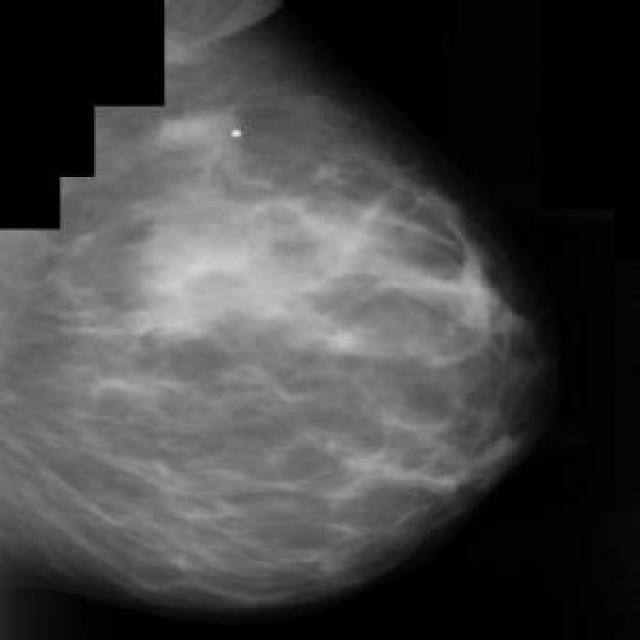tumor: (144, 108, 358, 359)
